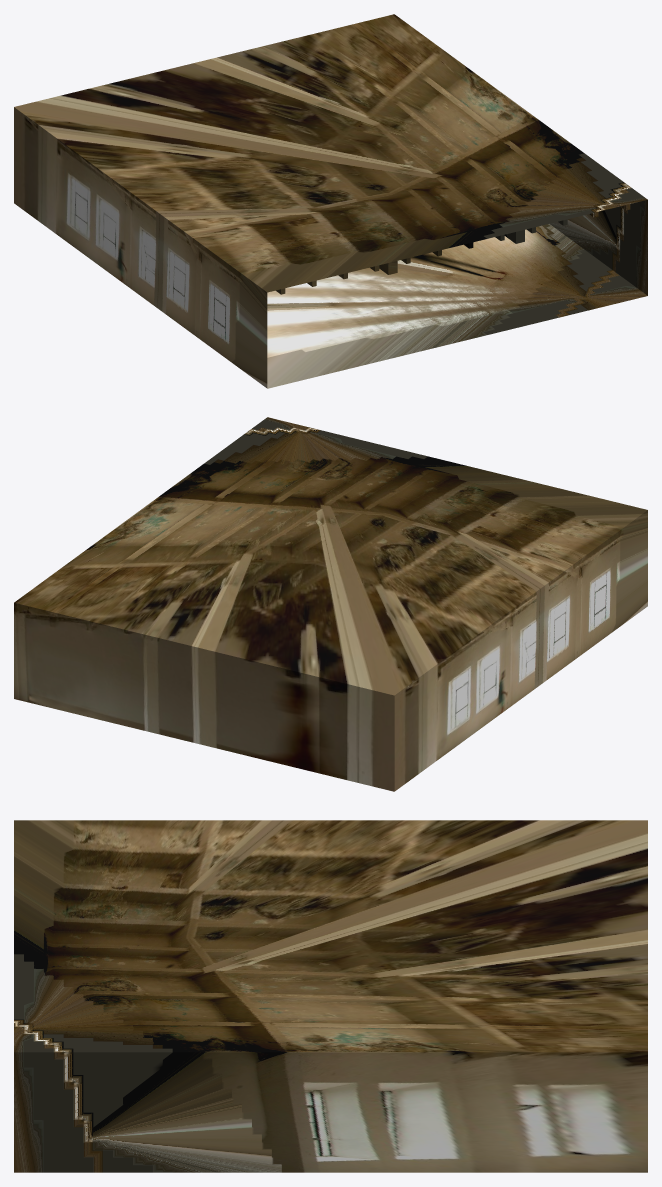
File: loft-room.glb
3 views of the same model, one above another, from view 1: azimuth 30°, elevation 25°; view 2: azimuth 150°, elevation 25°; view 3: azimuth 270°, elevation 25° (orthographic). The views are drawn at different scales.
Visible parts, largest first — view 1: ceiling, floor, walls, beams; view 2: ceiling, walls, beams; view 3: ceiling, walls, beams.
Boxes of the visible parts, x1,y1,x2,y2 form: ceiling: [14, 14, 647, 292]; floor: [267, 224, 647, 388]; walls: [14, 107, 647, 388]; beams: [47, 132, 630, 294]; ceiling: [14, 417, 647, 695]; walls: [14, 510, 647, 791]; beams: [31, 564, 573, 697]; ceiling: [14, 820, 647, 1052]; walls: [14, 1052, 647, 1172]; beams: [188, 1052, 563, 1067].
Bounding box in the file's own units: 18.2 × 4.4 × 21.
1 material, 1 textured.
